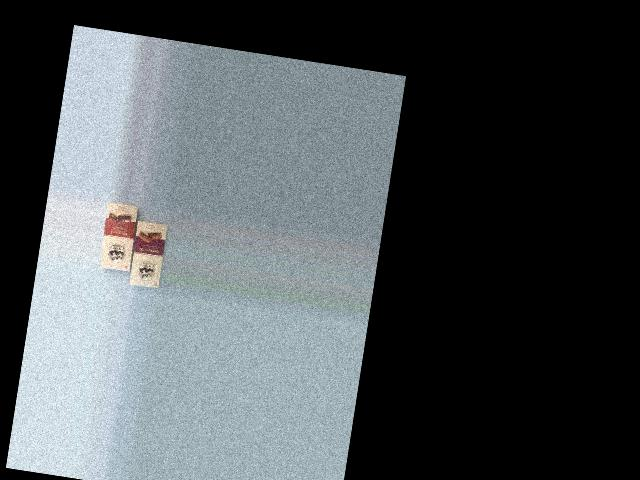chocolate: (96, 200, 146, 275)
